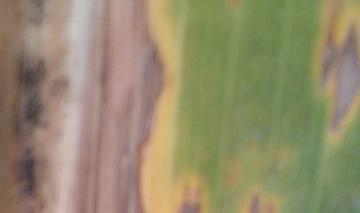tarspot: (12, 144, 38, 193), (22, 93, 48, 129), (21, 58, 47, 87), (28, 1, 44, 26)
